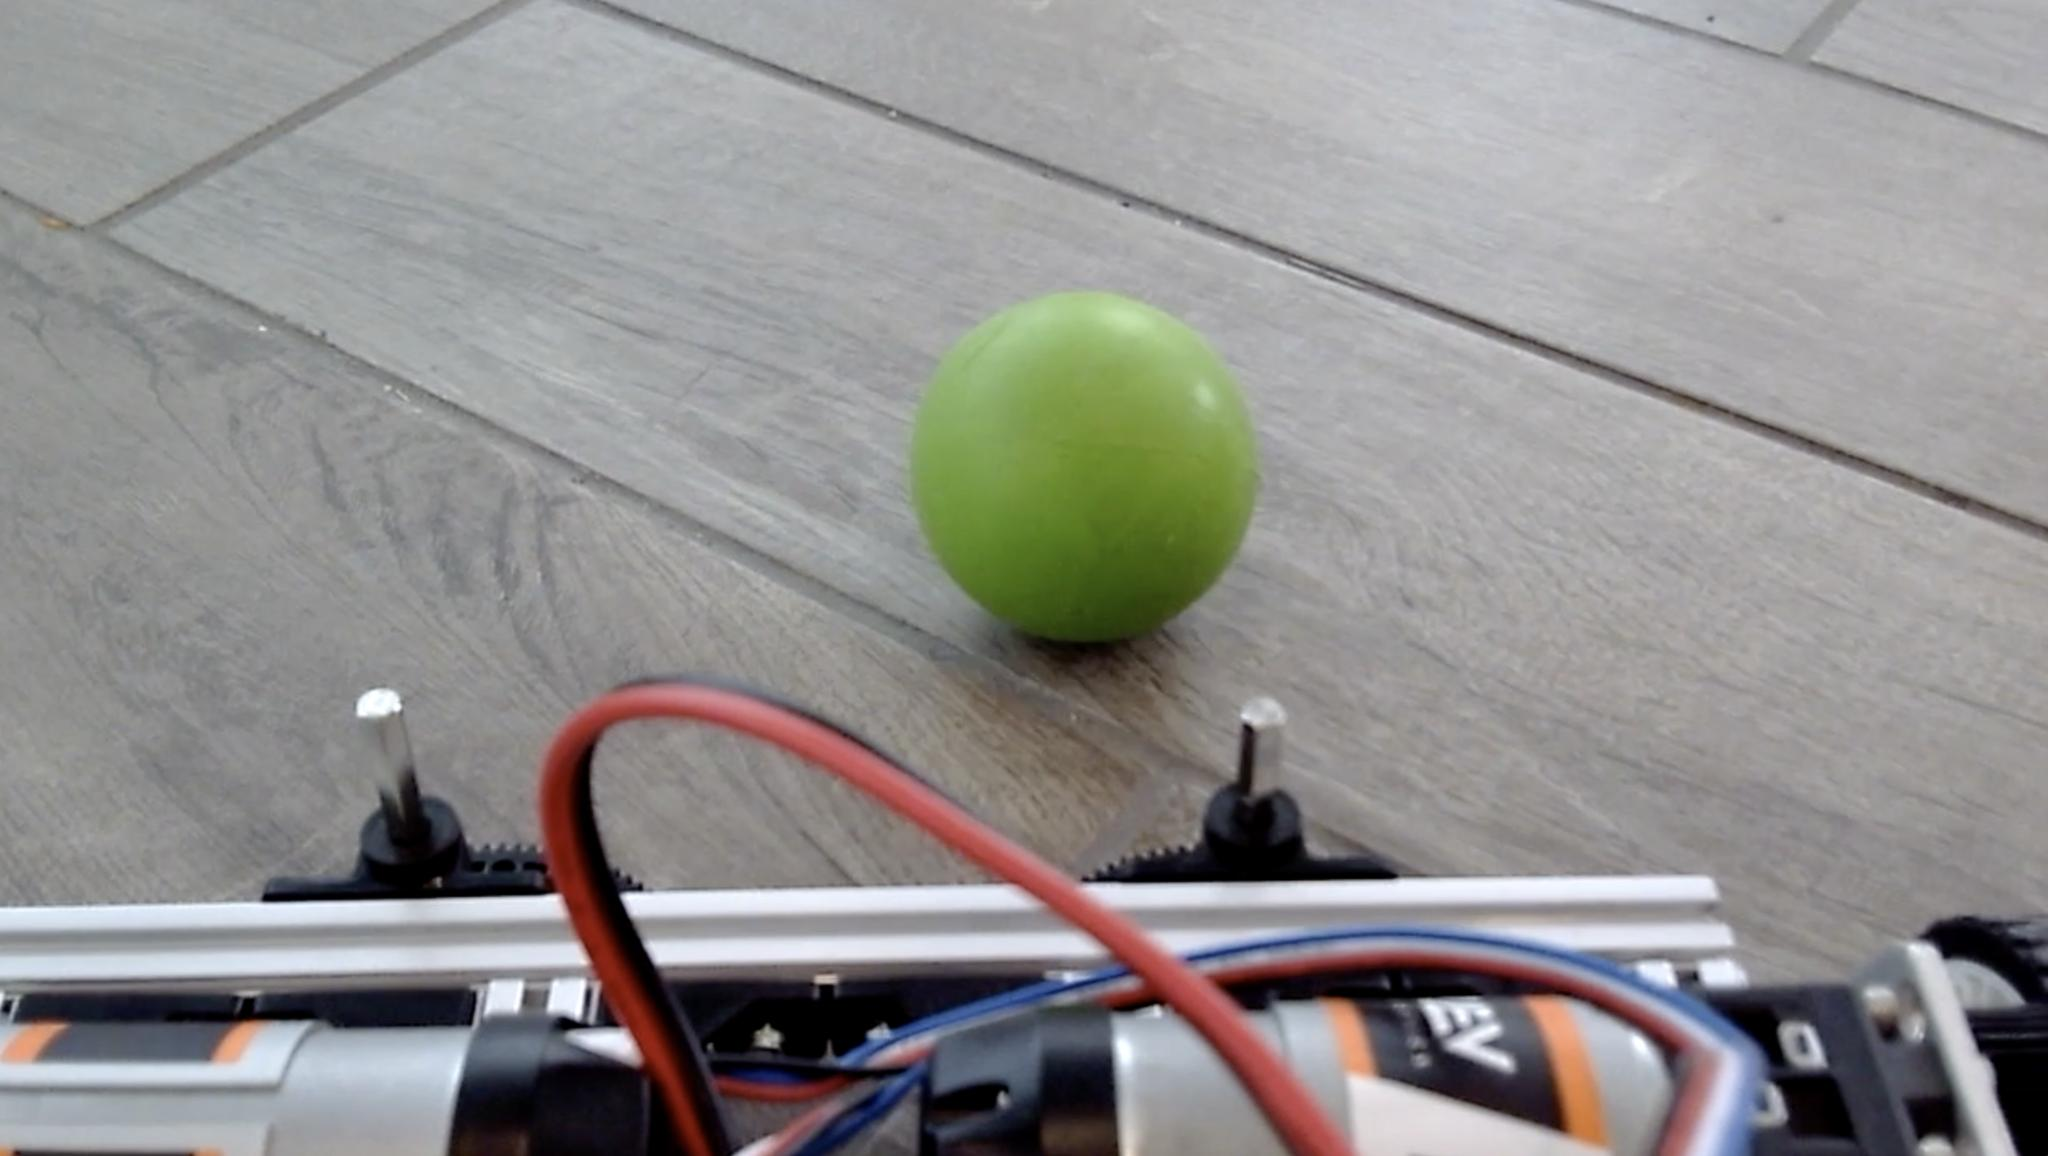greenball: (906, 285, 1262, 646)
